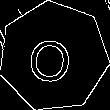O_N: (29, 29, 78, 84)
